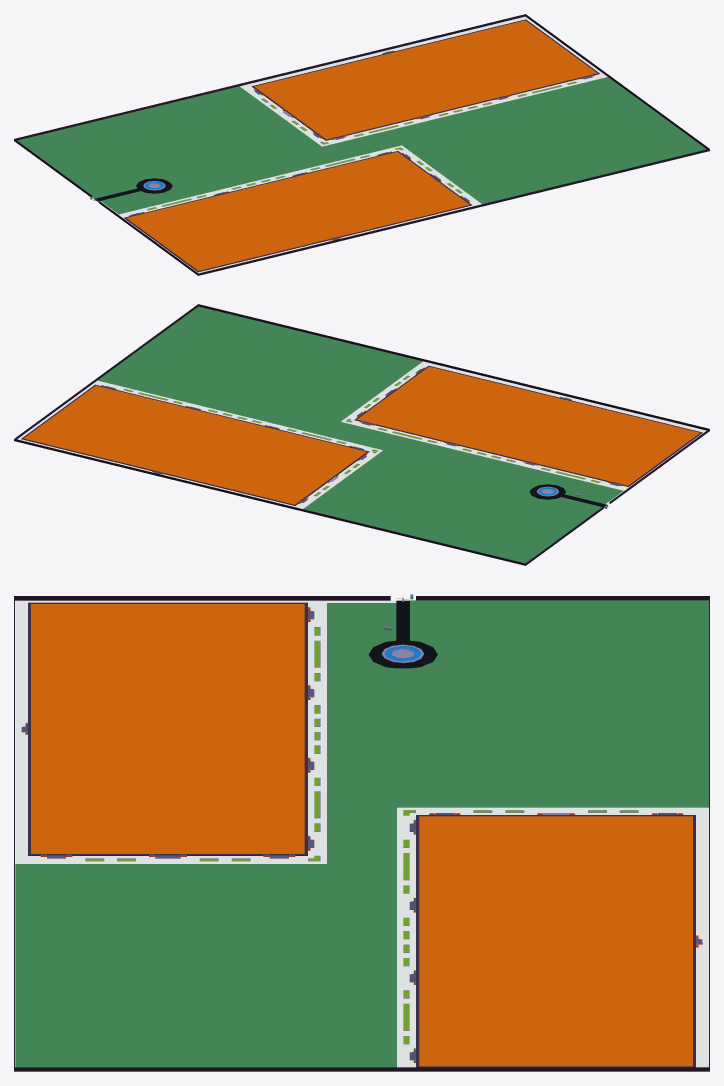
Rendered from OfficeMap.fbx.
3 renders of one model, top to bottom at view 1: azimuth 30°, elevation 25°; view 2: azimuth 150°, elevation 25°; view 3: azimuth 270°, elevation 25°, orthographic. The views are drawn at different scales.
Visible parts, largest first — view 1: Map; view 2: Map; view 3: Map.
Part boxes in pixels (x1,y1,x2,y2): Map: (14,14,709,275); Map: (14,304,709,565); Map: (14,594,709,1071).
Size of the model in its own units: 105674 by 430 by 65622.
